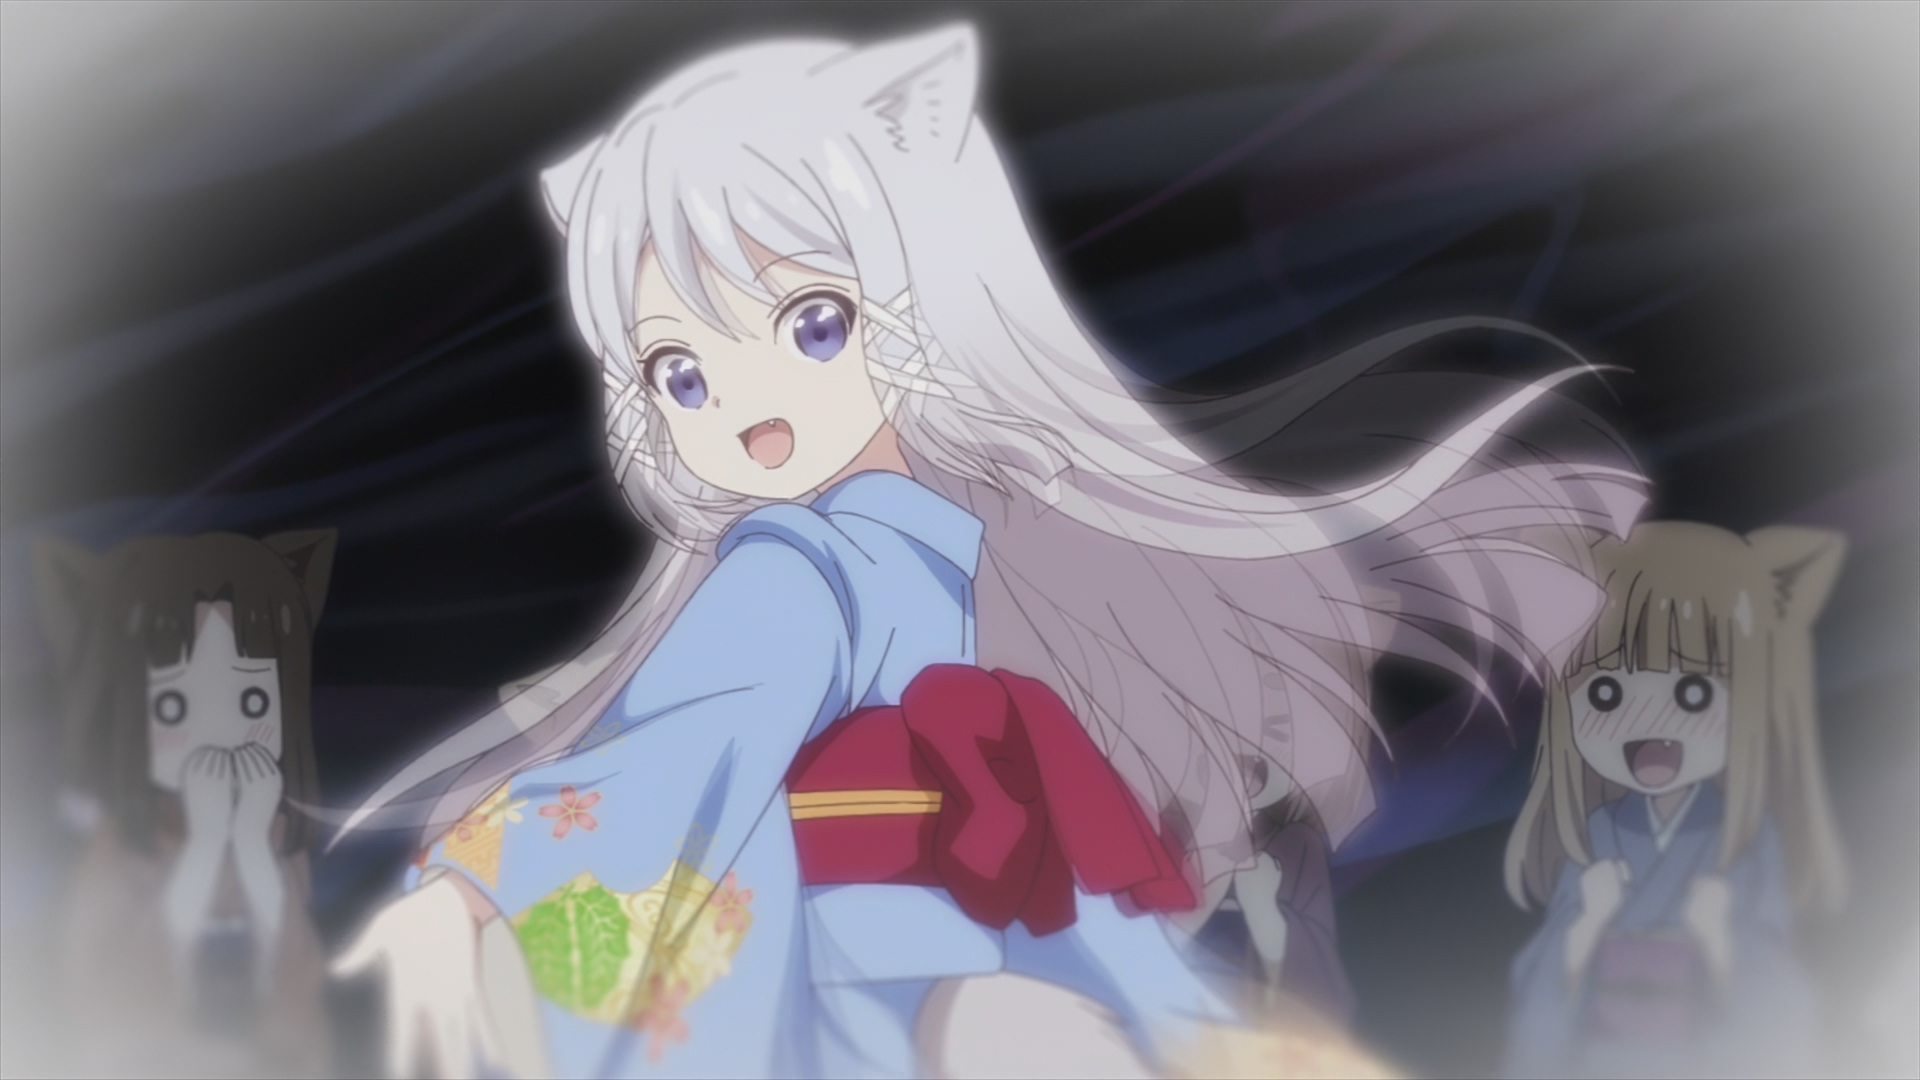其他: (1502, 520, 1846, 1080), (26, 526, 338, 1080), (1178, 585, 1404, 1038)
柊: (286, 17, 1648, 1080)
